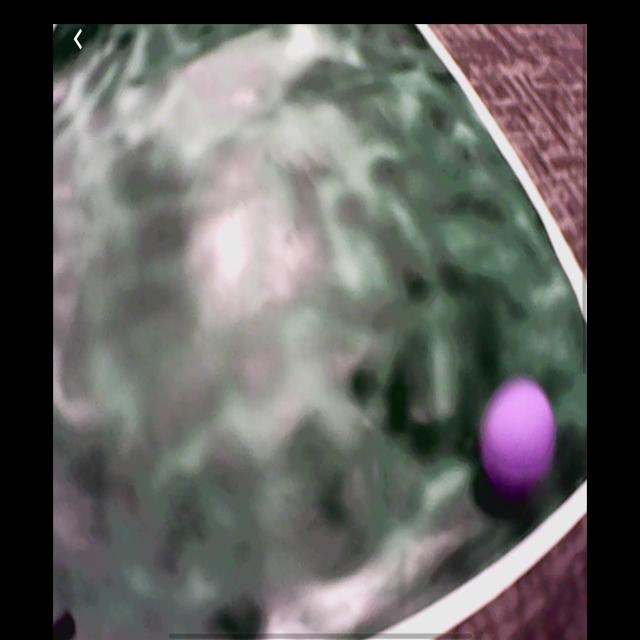ball: (483, 385, 558, 486)
